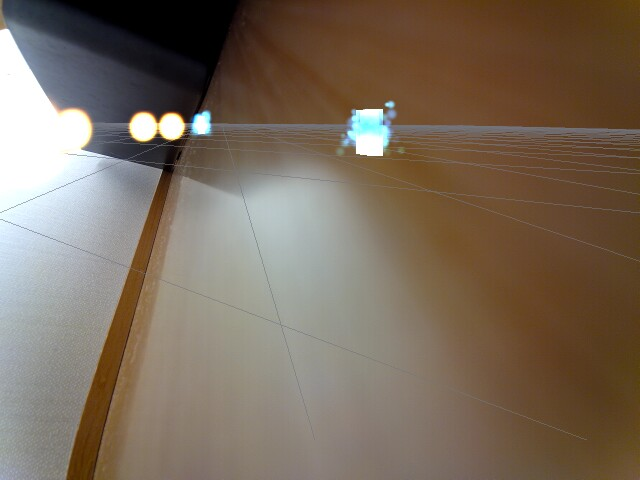firebig: (2, 76, 56, 186)
